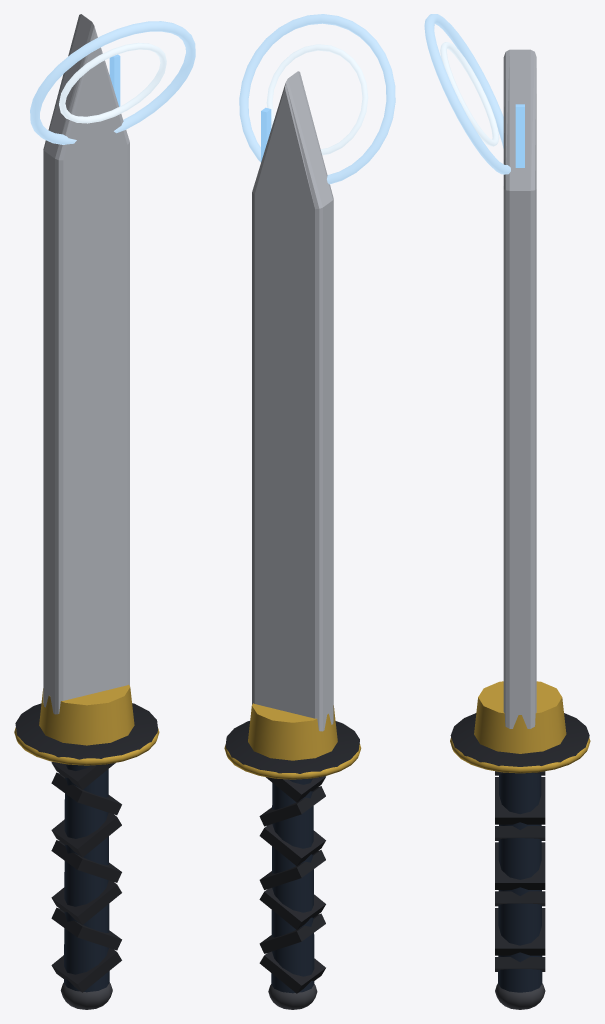
Rendered from setsuna.glb.
3 renders of one model, left to right at view 1: azimuth 30°, elevation 25°; view 2: azimuth 150°, elevation 25°; view 3: azimuth 270°, elevation 25°, orthographic. The views are drawn at different scales.
Parts seen in each view (by area): view 1: object 1, spin, object 6, object 3, object 4, object 11, object 9, object 7, object 5, object 12, object 10, object 8 (+3 smaller); view 2: object 1, spin, object 6, object 3, object 4, object 11, object 9, object 7, object 5, object 12, object 10, object 8 (+3 smaller); view 3: object 1, object 6, spin, object 3, object 4, object 12, object 10, object 8, object 5, object 14, object 9, object 11 (+2 smaller).
Boxes of the visible parts, x1,y1,x2,y2 form: object 1: [43, 14, 129, 714]; spin: [30, 21, 195, 144]; object 6: [64, 764, 109, 992]; object 3: [39, 684, 134, 745]; object 4: [15, 703, 157, 765]; object 11: [51, 813, 121, 857]; object 9: [51, 880, 121, 924]; object 7: [51, 948, 121, 992]; object 5: [14, 727, 159, 765]; object 12: [51, 772, 121, 815]; object 10: [51, 840, 121, 882]; object 8: [51, 907, 121, 950]; object 1: [252, 71, 333, 731]; spin: [239, 14, 395, 184]; object 6: [271, 778, 314, 993]; object 3: [248, 703, 337, 760]; object 4: [225, 721, 359, 777]; object 11: [259, 824, 325, 865]; object 9: [259, 888, 325, 929]; object 7: [259, 951, 325, 993]; object 5: [224, 743, 361, 779]; object 12: [259, 786, 325, 826]; object 10: [259, 850, 325, 889]; object 8: [259, 913, 325, 953]; object 1: [503, 49, 536, 728]; object 6: [498, 773, 542, 992]; spin: [424, 14, 510, 174]; object 3: [474, 681, 566, 753]; object 4: [450, 713, 589, 766]; object 12: [495, 777, 545, 824]; object 10: [495, 842, 545, 889]; object 8: [495, 908, 545, 955]; object 5: [450, 737, 590, 773]; object 14: [495, 983, 545, 1009]; object 9: [495, 891, 545, 906]; object 11: [495, 826, 545, 840].
Bounding box in the file's own units: 0.424 × 2.58 × 0.3944.
